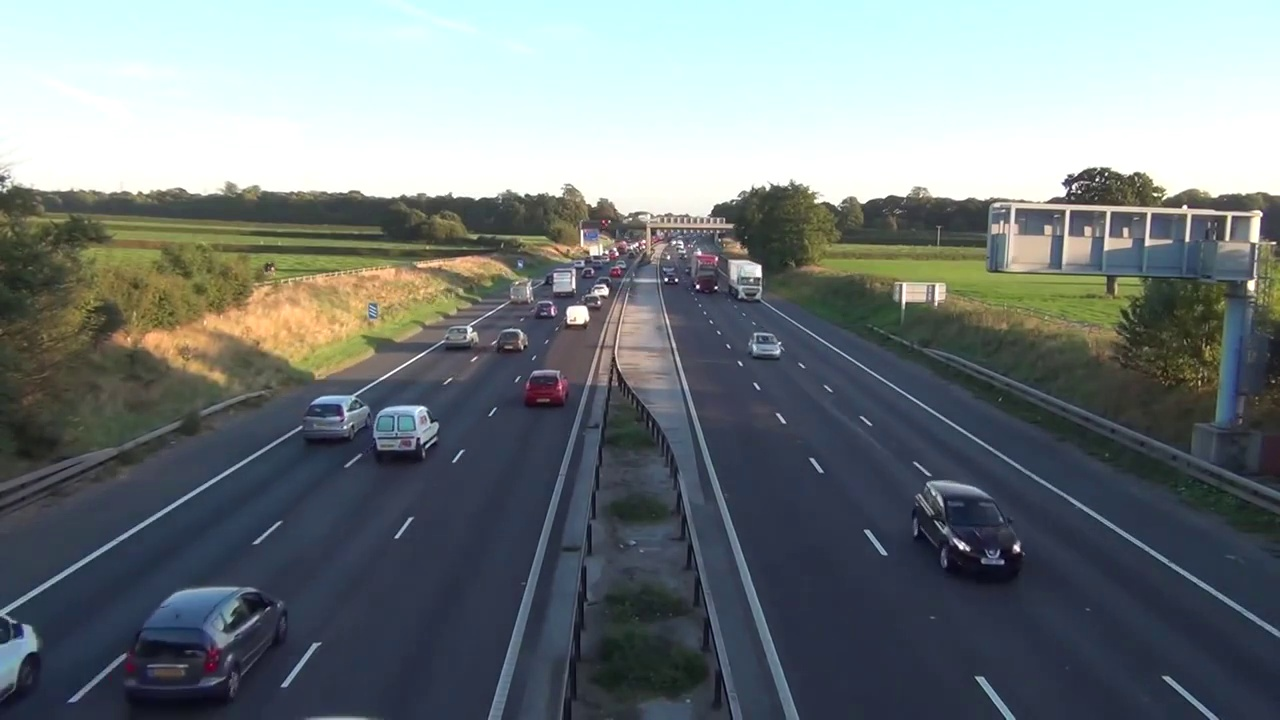bus: (126, 586, 290, 699), (911, 480, 1026, 581), (303, 394, 372, 441), (525, 367, 570, 404), (749, 332, 783, 359), (442, 326, 480, 348), (496, 328, 528, 352), (535, 301, 558, 318), (661, 271, 681, 285), (583, 295, 601, 309), (591, 285, 610, 297)
car: (726, 258, 763, 305), (688, 253, 722, 297), (550, 268, 579, 298)
lorry: (374, 406, 439, 460), (564, 304, 589, 327), (510, 281, 534, 304)
